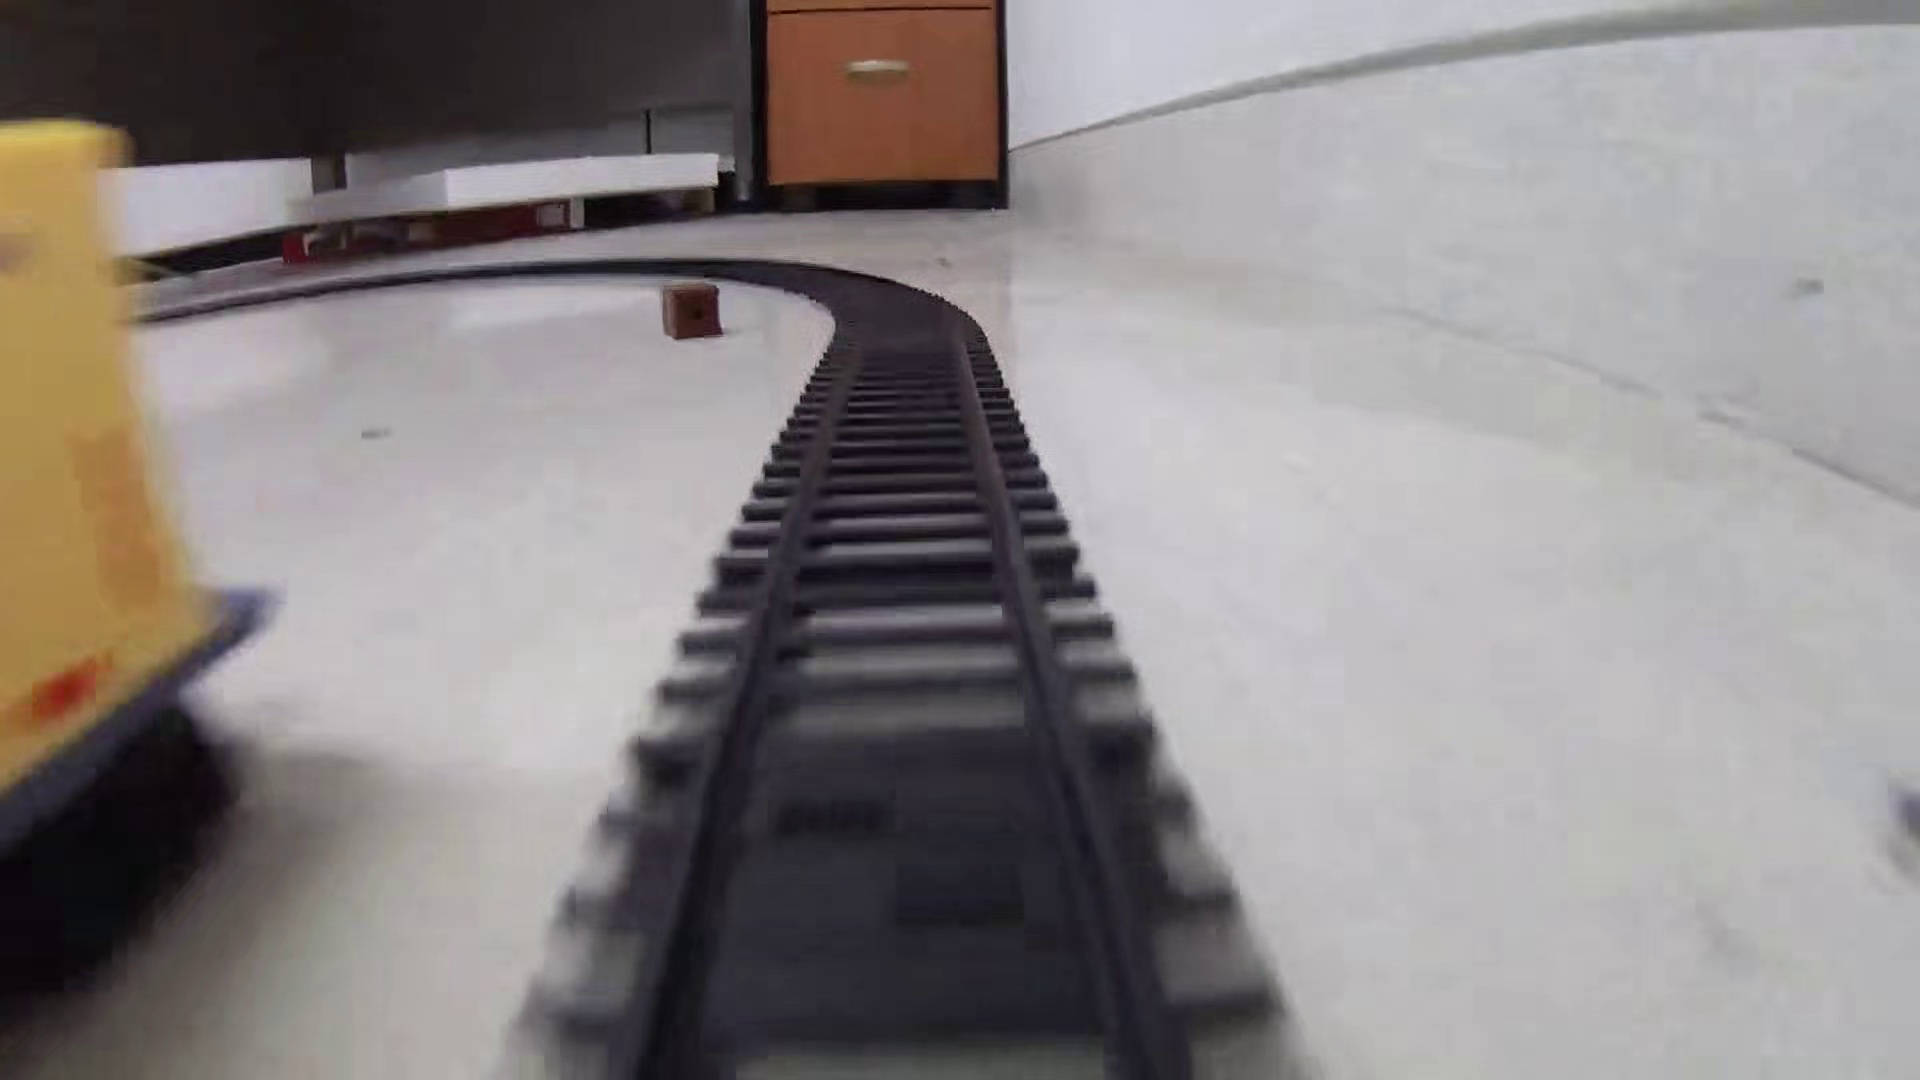box: (659, 281, 729, 341)
